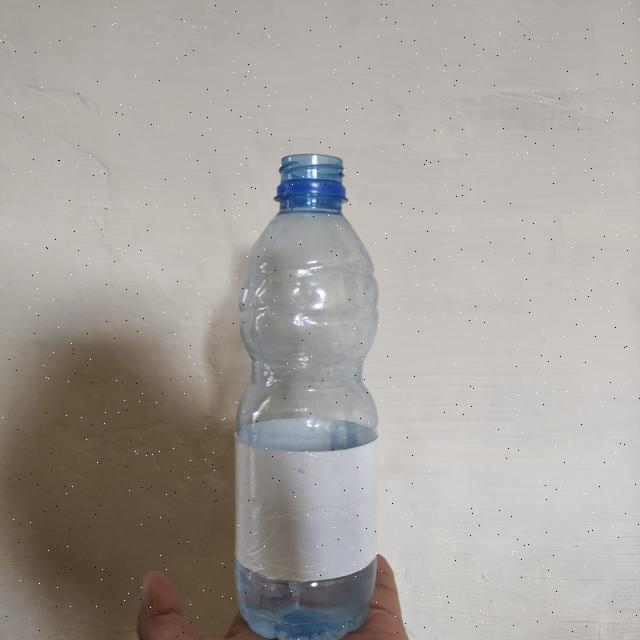bottle: (235, 146, 387, 640)
label: (233, 434, 379, 578)
